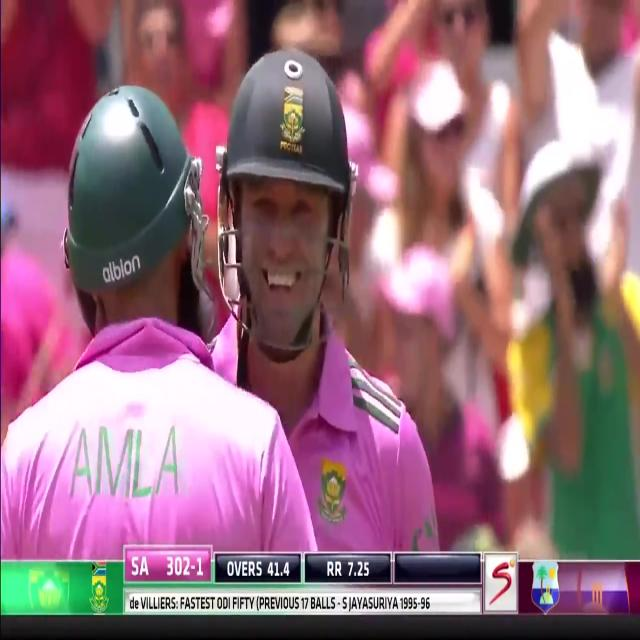Ball: (0, 87, 323, 555), (206, 58, 440, 552)
